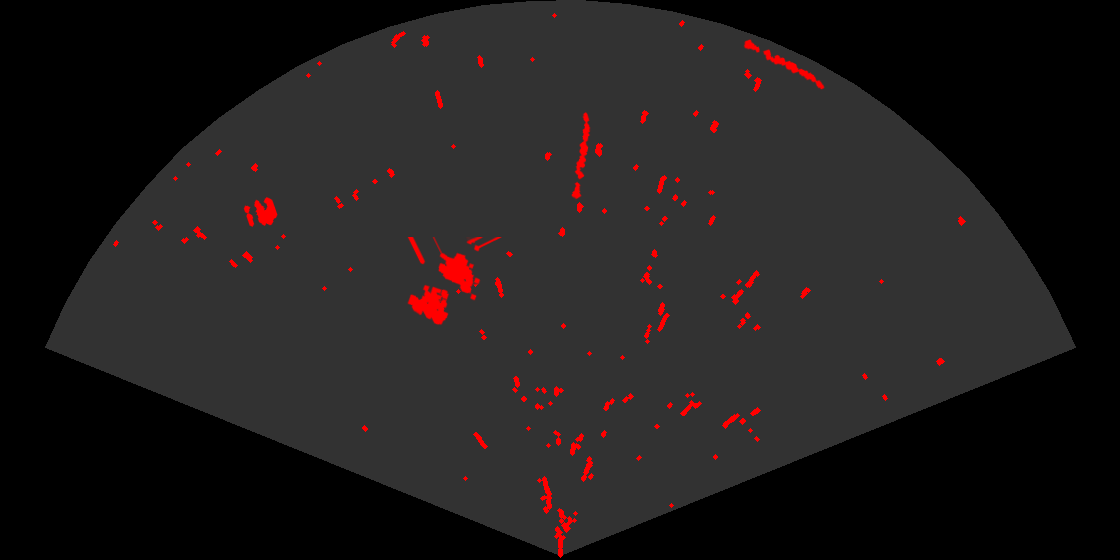ball: (242, 195, 279, 228)
cage: (406, 237, 503, 327)
chain: (742, 38, 826, 91), (570, 111, 592, 202)
